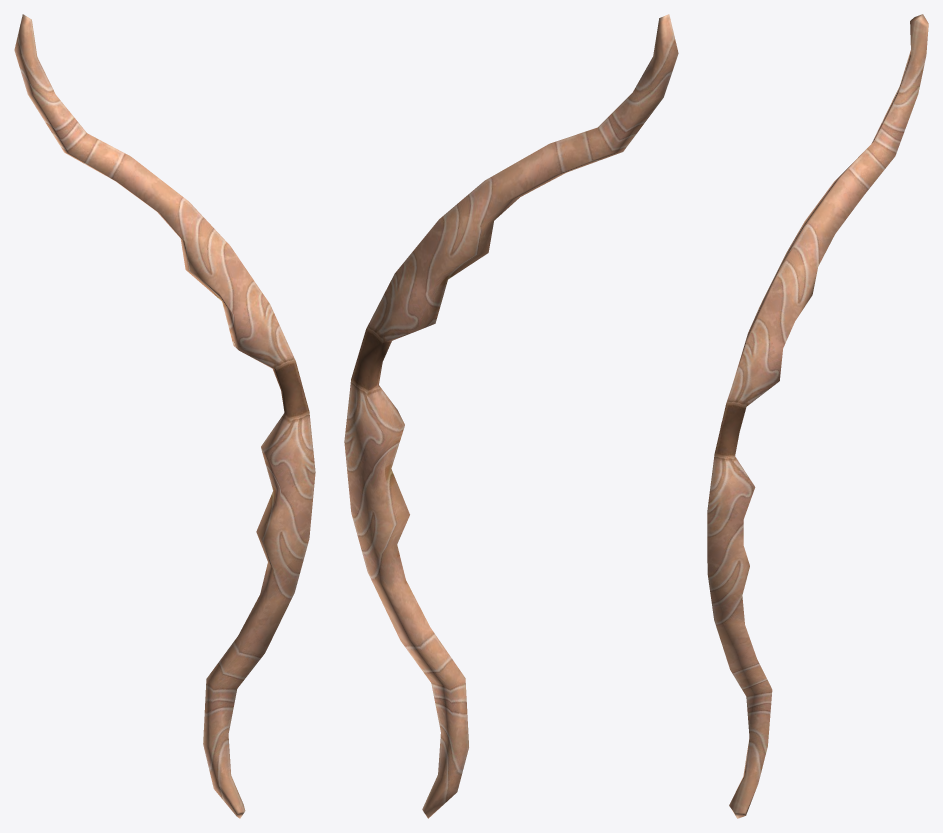
File: rangedweapon-ironweapons.glb
3 views of the same model, side by side, from view 1: azimuth 30°, elevation 25°; view 2: azimuth 210°, elevation 25°; view 3: azimuth 270°, elevation 25° (orthographic). The views are drawn at different scales.
Size of the model in its own units: 0.4131 by 1.6 by 0.4301.
1 material, 1 textured.
